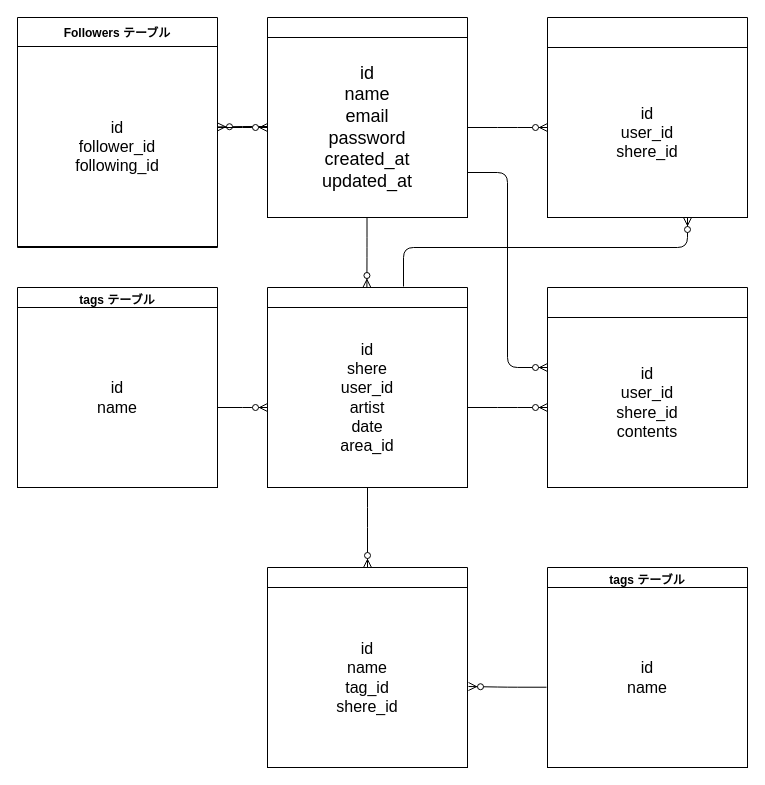
Some shapes in this 765 by 785 pixel diagram are drawn without their labels. The box of each missing label's shape, as (x1, y1, x2, y2) in pixels:
Comments テーブル: (546, 286, 748, 488)
Favorites テーブル: (546, 16, 748, 218)
Sheres テーブル: (266, 286, 468, 488)
Sheres_tags テーブル: (266, 566, 468, 768)
Usersテーブル: (266, 16, 468, 218)
